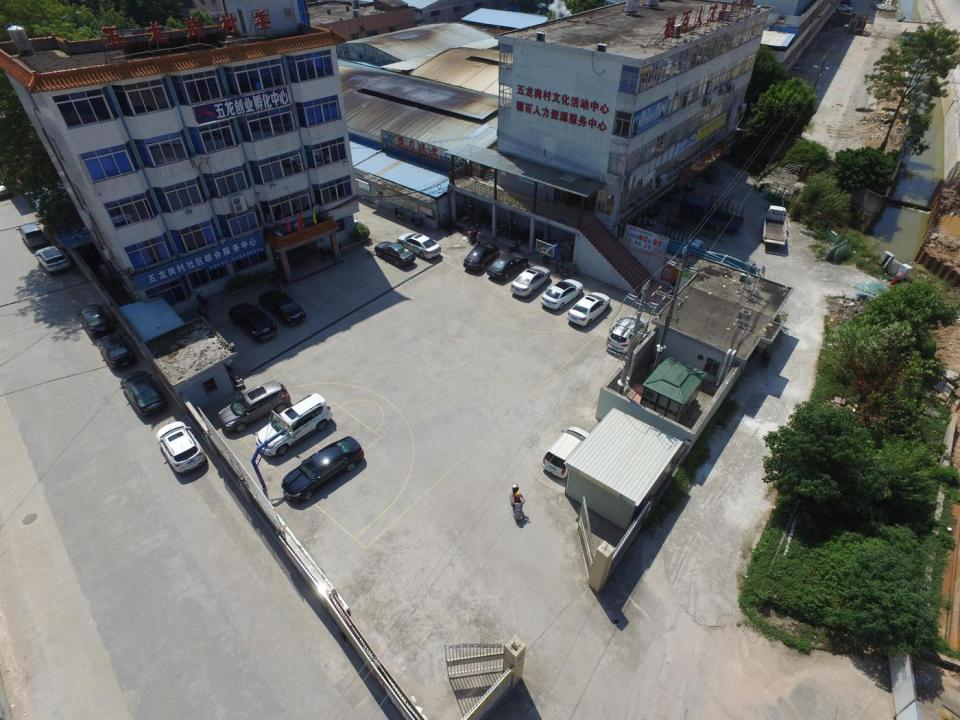car: (280, 434, 363, 507), (217, 379, 292, 432), (156, 420, 210, 480), (120, 369, 166, 415), (229, 303, 280, 342), (567, 291, 609, 328), (609, 314, 648, 352), (263, 293, 305, 326), (510, 264, 552, 296), (396, 232, 442, 260), (100, 334, 132, 374), (375, 238, 416, 269), (541, 280, 582, 310), (79, 305, 112, 340), (464, 242, 497, 274), (487, 252, 526, 279), (36, 245, 68, 272), (831, 3, 853, 13)
van: (257, 392, 333, 455), (542, 426, 590, 478), (680, 194, 745, 230), (763, 204, 789, 245), (16, 222, 48, 248)
